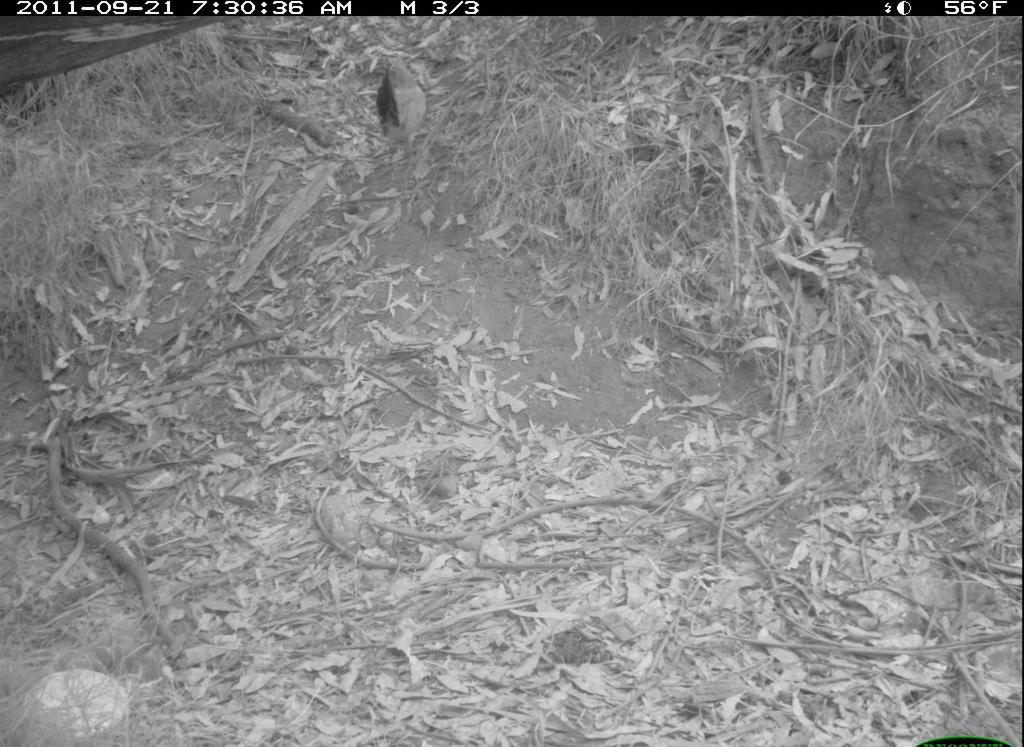bird: (367, 50, 446, 166)
